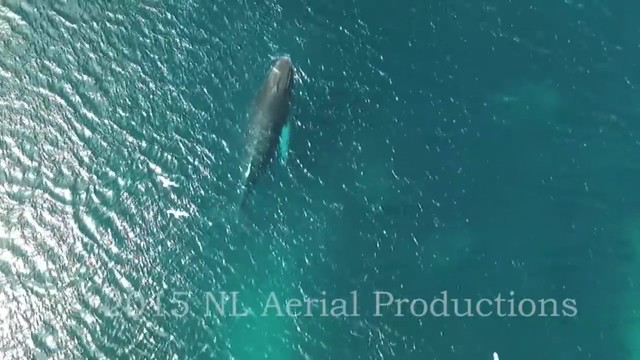whale: (213, 52, 303, 247)
